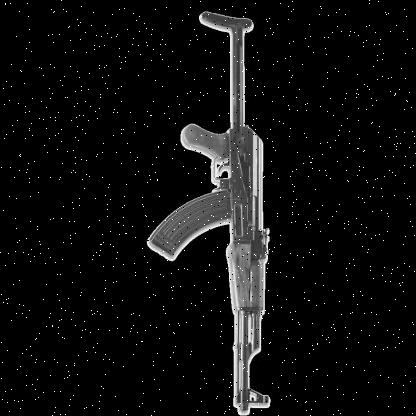rifle: (140, 14, 300, 414)
